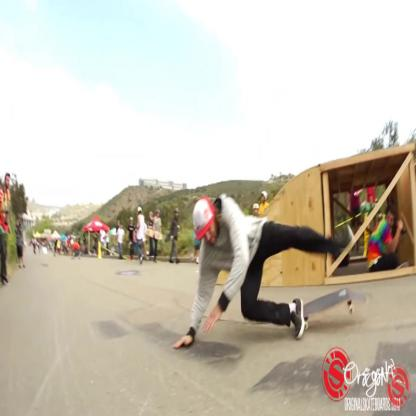Fall_Down: (170, 192, 355, 352)
